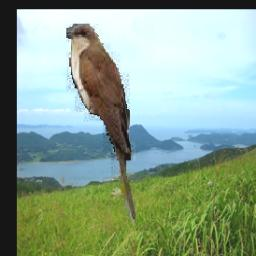Cuckoo: (64, 25, 135, 223)
